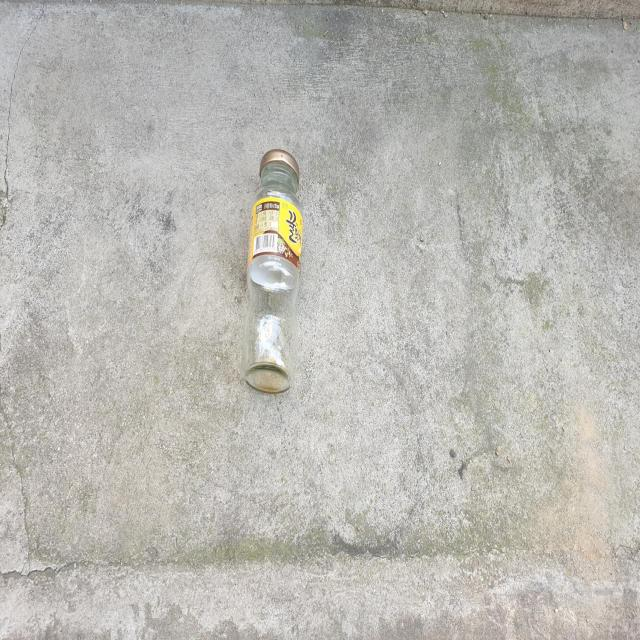glass: (243, 148, 303, 392)
